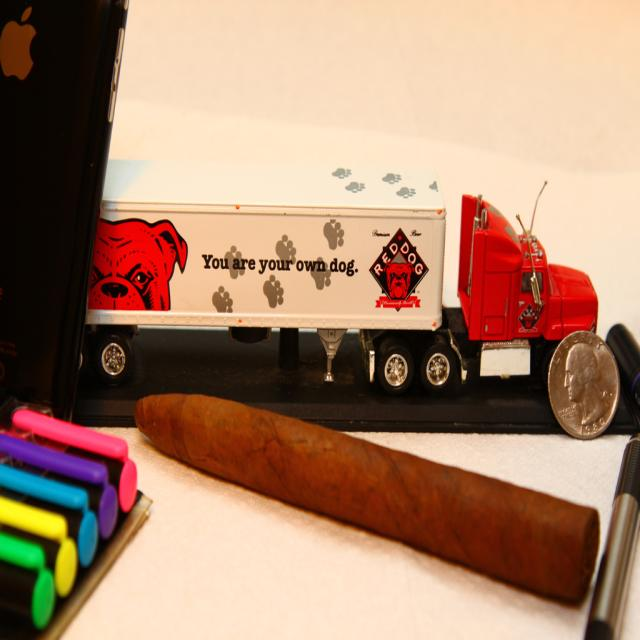Coin: (547, 328, 620, 440)
